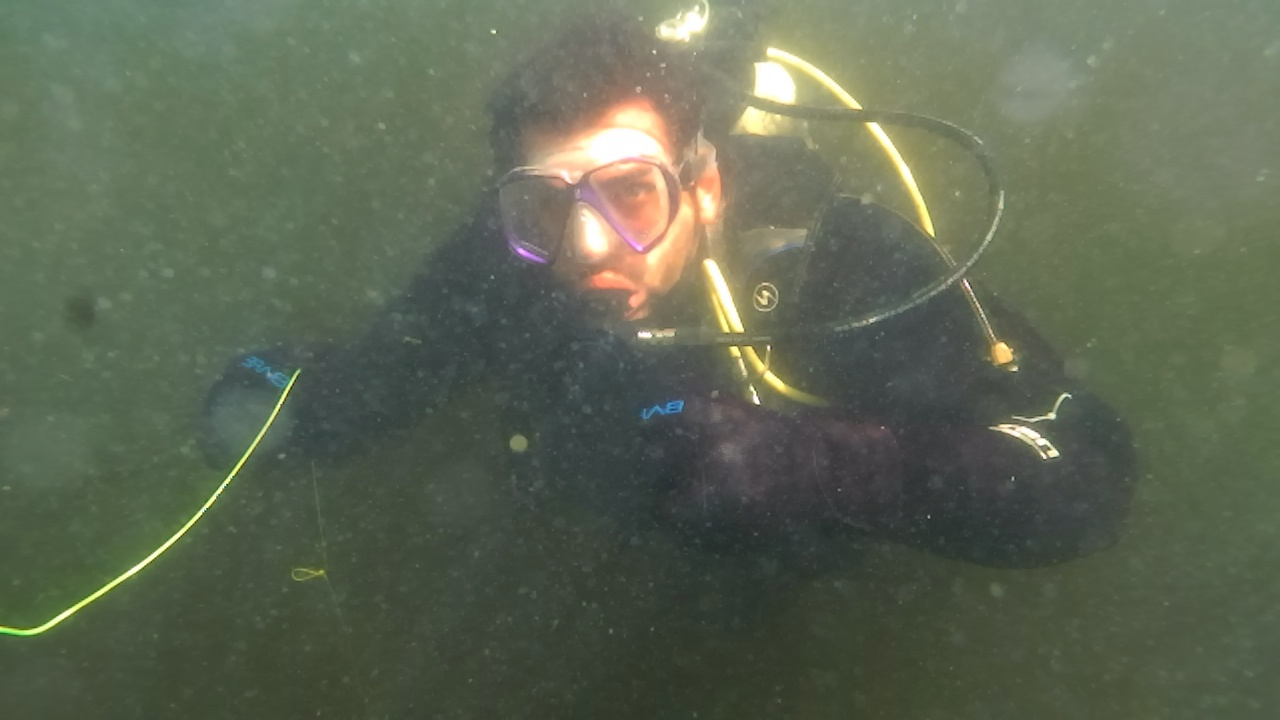Diver: (118, 8, 1164, 660)
Hand: (648, 362, 944, 574), (176, 318, 376, 492), (852, 558, 864, 560)
Head: (464, 10, 734, 356)
